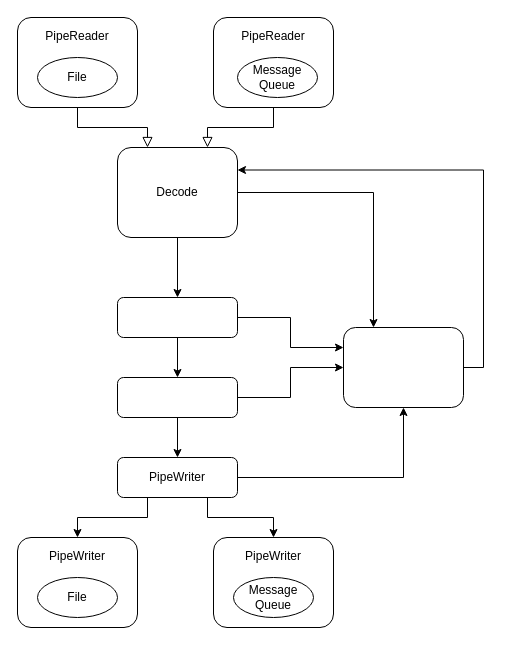
Image size: 509x645. Some labels were removed from this diagram. The centre of each missing label's shape, as x and y in pixels:
Encode: point (177, 397)
Error Handler: point (403, 367)
Process: point (177, 317)
